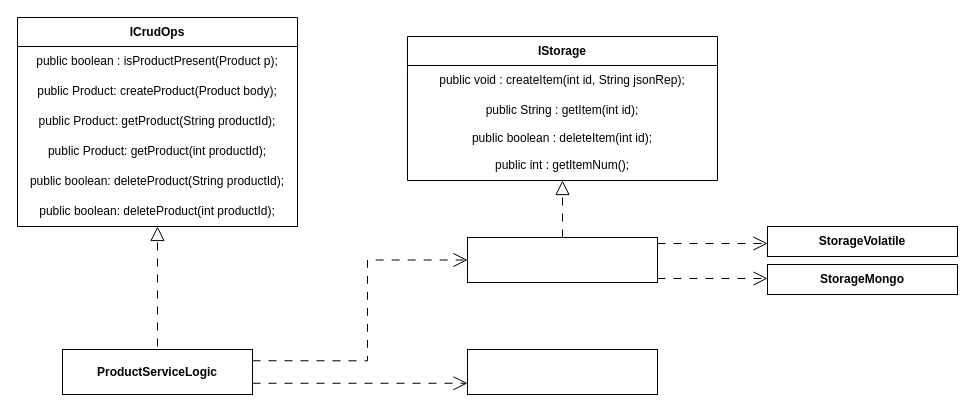
The diagram is 975 pixels wide and 415 high, and some of its shapes have lost their labels. Each missing label, with the centre of its shape:
AdapterStorage: (x=562, y=259)
Product: (x=562, y=371)
